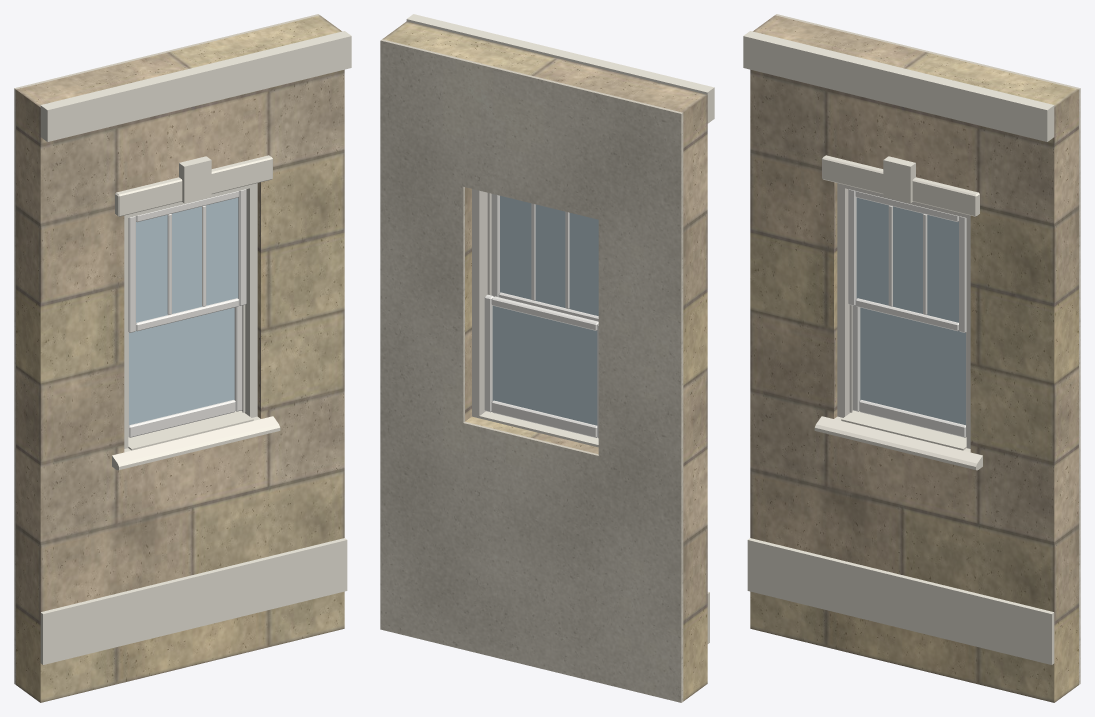
The model's file is wall_ground_rect_window.glb.
3 views of the same model, side by side, from view 1: azimuth 30°, elevation 25°; view 2: azimuth 150°, elevation 25°; view 3: azimuth 330°, elevation 25° (orthographic).
Parts seen in each view (by area): view 1: wall_ground_rect_window_rustic, wall_ground_rect_window_trim, wall_ground_rect_window_glass, wall_ground_rect_window_sash, wall_ground_rect_window_frame, wall_ground_rect_window_plaster; view 2: wall_ground_rect_window_plaster, wall_ground_rect_window_rustic, wall_ground_rect_window_glass, wall_ground_rect_window_sash, wall_ground_rect_window_trim, wall_ground_rect_window_frame; view 3: wall_ground_rect_window_rustic, wall_ground_rect_window_trim, wall_ground_rect_window_glass, wall_ground_rect_window_sash, wall_ground_rect_window_frame, wall_ground_rect_window_plaster.
Part boxes in pixels (x1=…): wall_ground_rect_window_rustic: x1=16, y1=15, x2=344, y2=702; wall_ground_rect_window_trim: x1=40, y1=31, x2=351, y2=664; wall_ground_rect_window_glass: x1=129, y1=197, x2=238, y2=425; wall_ground_rect_window_sash: x1=128, y1=189, x2=246, y2=437; wall_ground_rect_window_frame: x1=124, y1=183, x2=257, y2=448; wall_ground_rect_window_plaster: x1=14, y1=14, x2=319, y2=684; wall_ground_rect_window_plaster: x1=380, y1=39, x2=683, y2=702; wall_ground_rect_window_rustic: x1=382, y1=21, x2=707, y2=701; wall_ground_rect_window_glass: x1=492, y1=195, x2=598, y2=425; wall_ground_rect_window_sash: x1=484, y1=194, x2=598, y2=438; wall_ground_rect_window_trim: x1=406, y1=14, x2=714, y2=643; wall_ground_rect_window_frame: x1=472, y1=189, x2=491, y2=418; wall_ground_rect_window_rustic: x1=750, y1=15, x2=1078, y2=702; wall_ground_rect_window_trim: x1=743, y1=31, x2=1054, y2=664; wall_ground_rect_window_glass: x1=856, y1=197, x2=965, y2=425; wall_ground_rect_window_sash: x1=848, y1=189, x2=966, y2=437; wall_ground_rect_window_frame: x1=837, y1=183, x2=970, y2=448; wall_ground_rect_window_plaster: x1=775, y1=14, x2=1080, y2=684.
Size of the model in its own units: 2 by 3.76 by 0.38.
6 materials, 2 textured.
